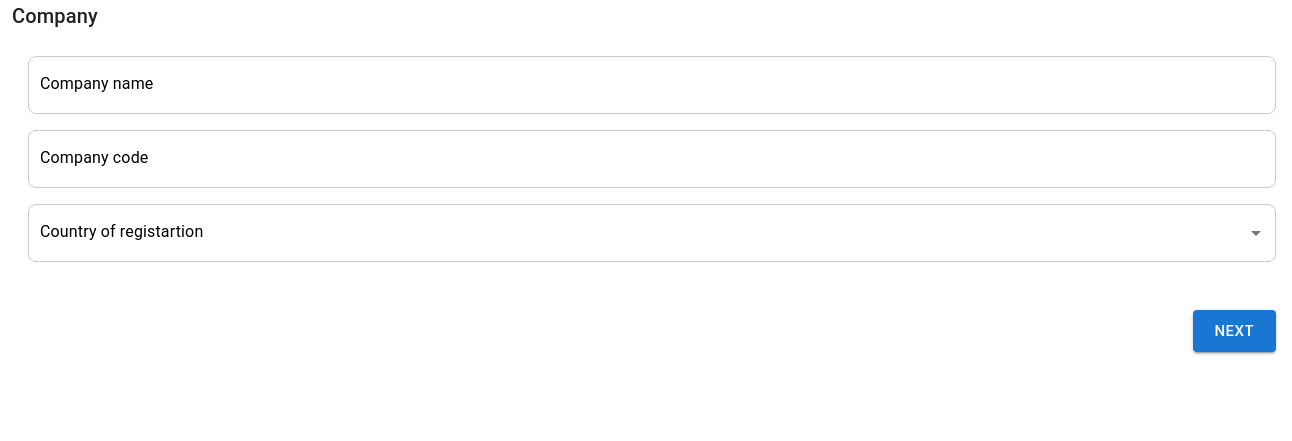
Scenario: MultiStepForm › Has required field on the company form
Click the button "Next": (1234, 331) [1192,310,1276,352]
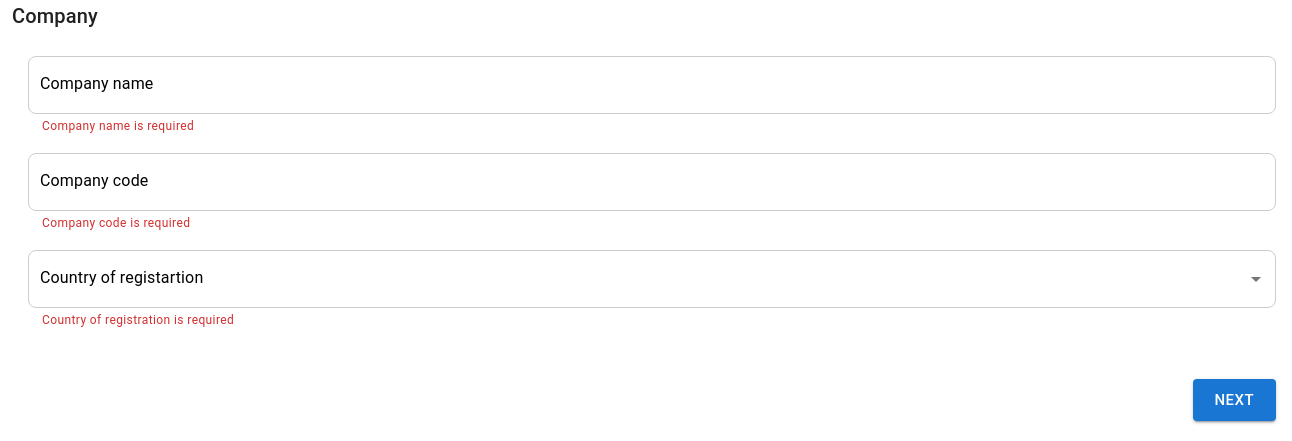
expect the text "Company name is required" is shown: met, box [42,119,194,133]
expect the text "Company code is required" is shown: met, box [42,216,190,230]
expect the text "Country of registration is required" is shown: met, box [42,313,234,327]
